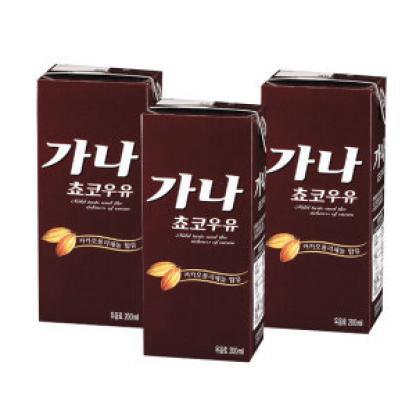tetra: (131, 89, 278, 363)
